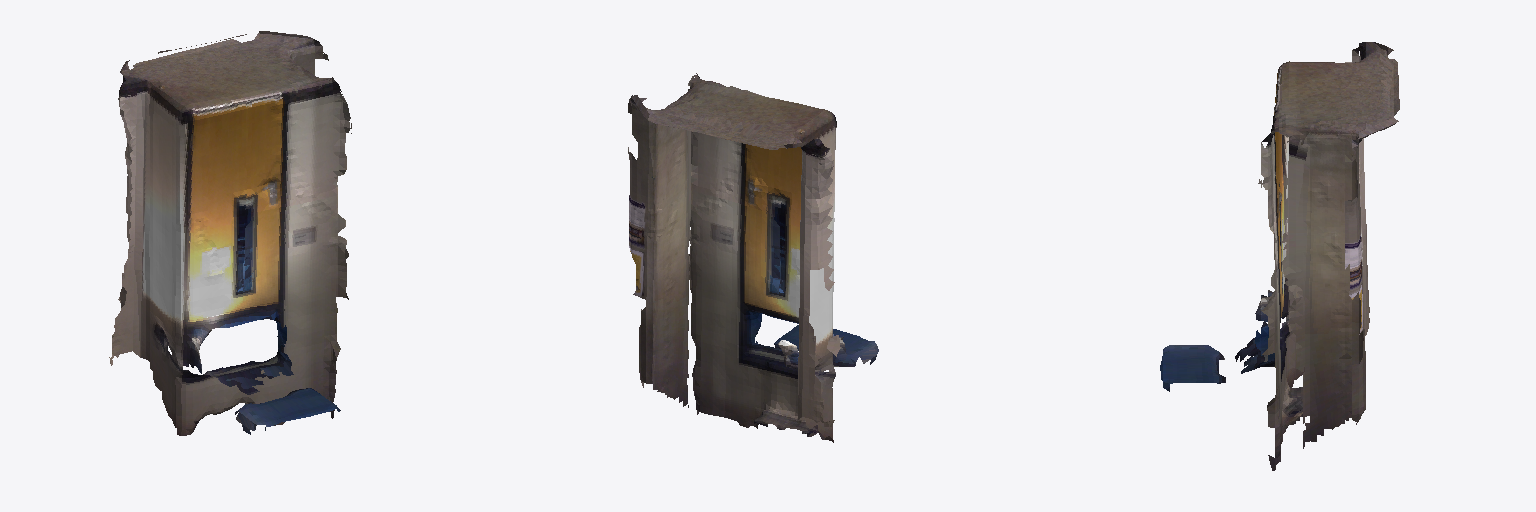
3 views of the same model, side by side, from view 1: azimuth 30°, elevation 25°; view 2: azimuth 150°, elevation 25°; view 3: azimuth 270°, elevation 25° (orthographic).
Bounding box in the file's own units: 2.28 × 3.67 × 2.22.
1 materials, 1 textured.